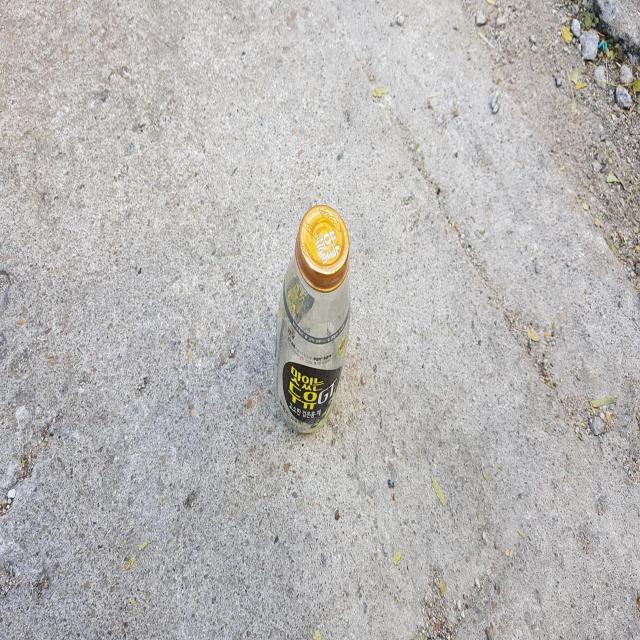glass: (275, 204, 351, 432)
